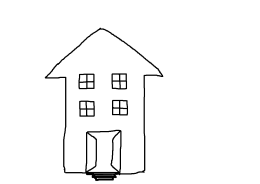closed_window: (75, 97, 99, 122), (108, 97, 133, 120), (109, 69, 132, 93), (76, 71, 98, 94)
door: (81, 125, 126, 175)
single_line_roof: (37, 22, 167, 81)
wall: (58, 72, 152, 178)
